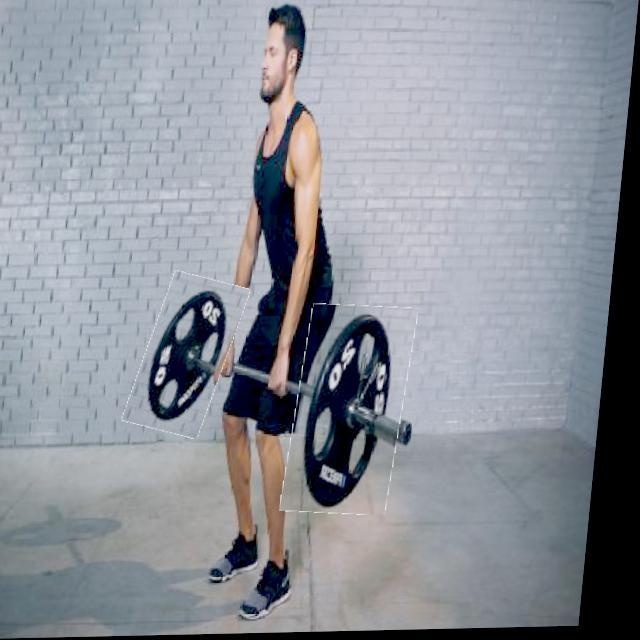barbell: (294, 306, 423, 518), (138, 276, 249, 439)
